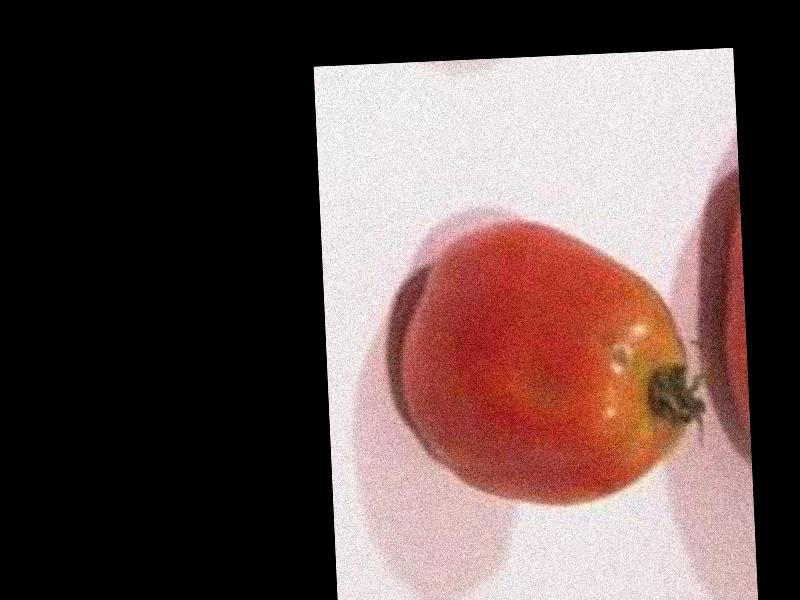Tomato: (401, 215, 697, 510)
